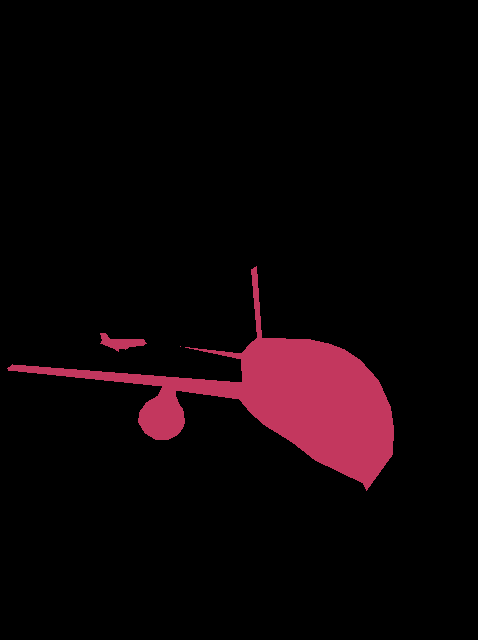Airplane: (7, 266, 394, 491), (100, 333, 147, 351)
